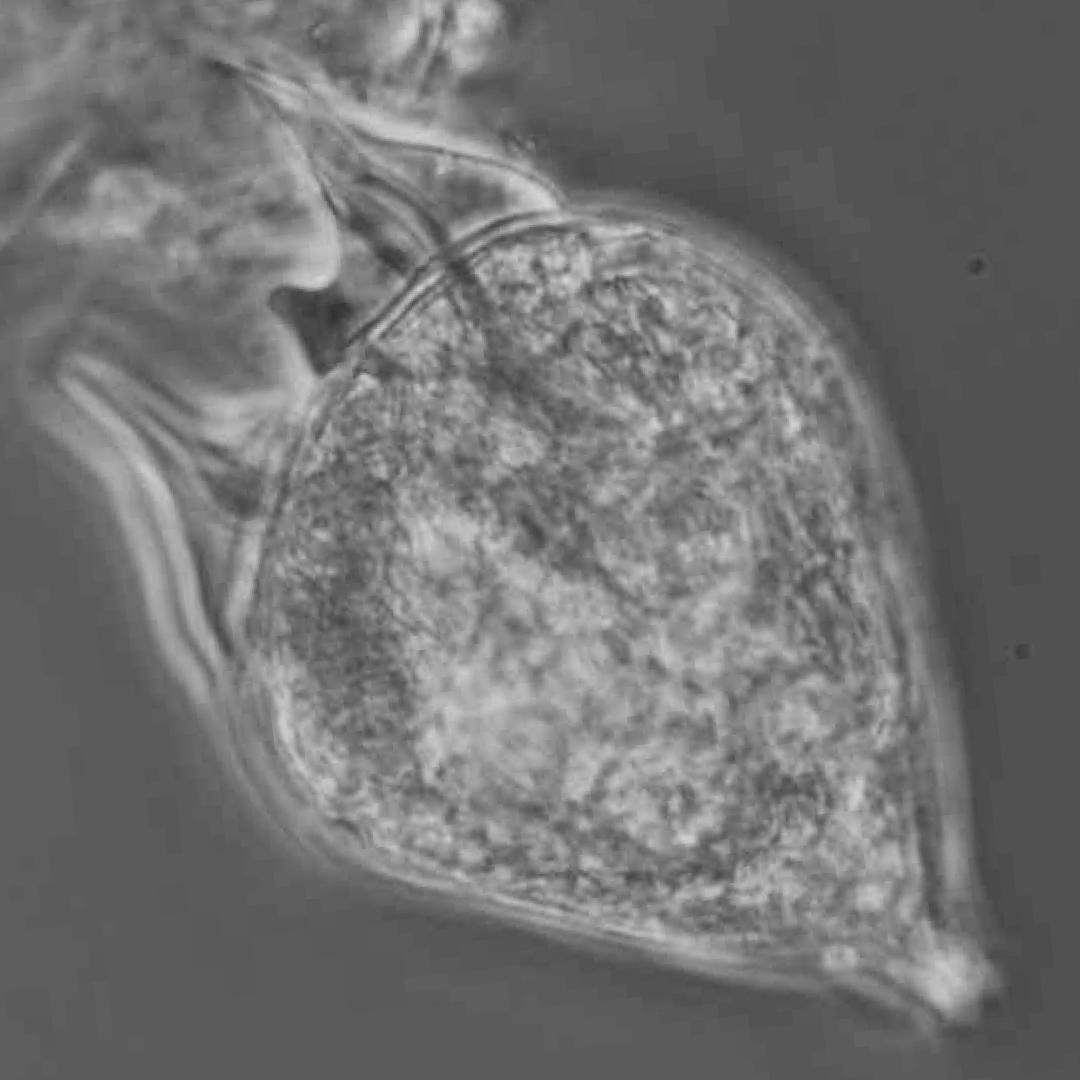podolampas_bipes: (49, 65, 1004, 1026)
